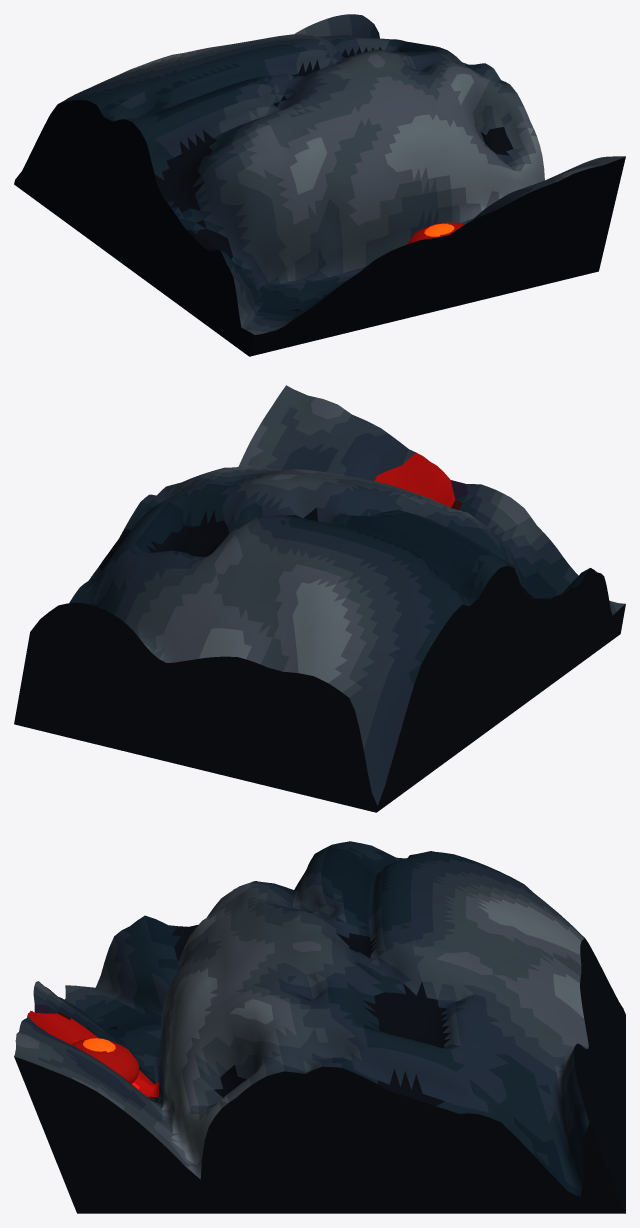
The model's file is gyges_maw_79.glb.
3 views of the same model, one above another, from view 1: azimuth 30°, elevation 25°; view 2: azimuth 150°, elevation 25°; view 3: azimuth 270°, elevation 25° (orthographic). The views are drawn at different scales.
Visible parts, largest first — view 1: gyges_maw_79; view 2: gyges_maw_79; view 3: gyges_maw_79.
Boxes of the visible parts, x1=… form: gyges_maw_79: x1=14, y1=14, x2=625, y2=356; gyges_maw_79: x1=14, y1=385, x2=625, y2=812; gyges_maw_79: x1=14, y1=841, x2=625, y2=1213.
Bounding box in the file's own units: 24 × 11.27 × 31.22.
